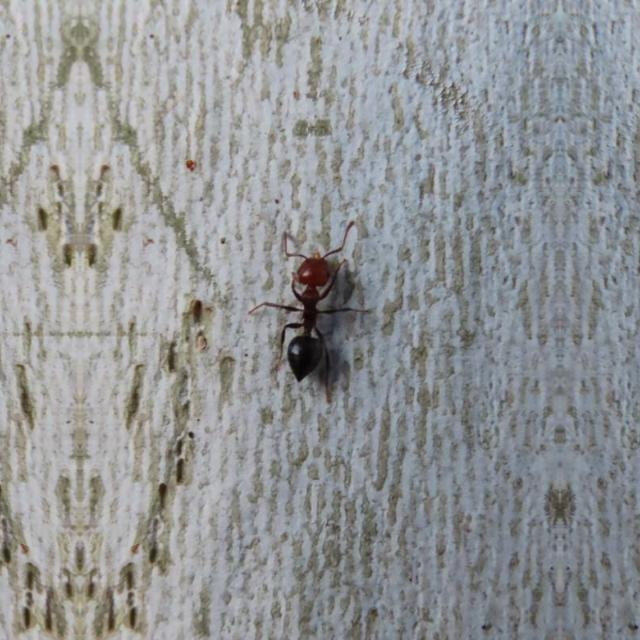Crematogaster: (267, 223, 349, 389)
